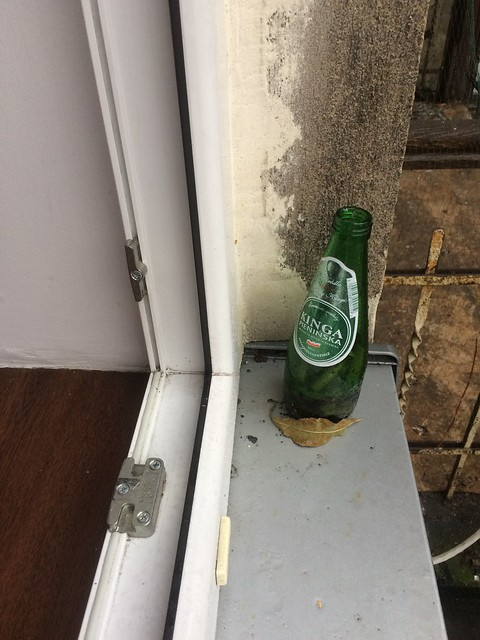bottle: (277, 196, 374, 426)
